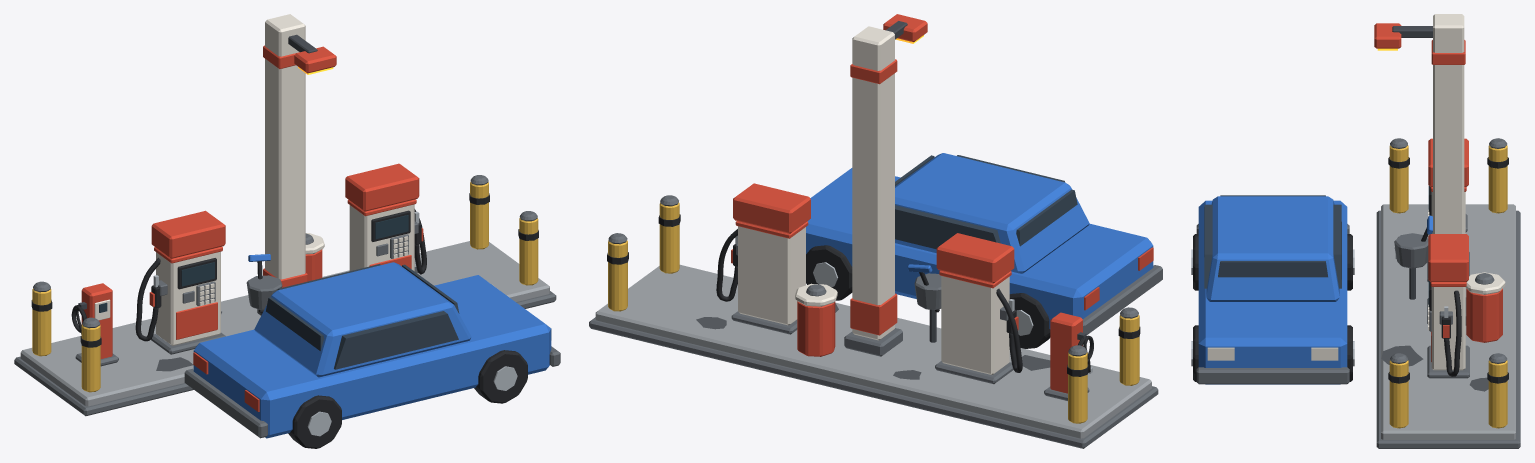
File: gas-station-pump-island.glb
3 views of the same model, side by side, from view 1: azimuth 30°, elevation 25°; view 2: azimuth 150°, elevation 25°; view 3: azimuth 270°, elevation 25° (orthographic). The views are drawn at different scales.
Visible parts, largest first — view 1: Car_Body, Island_Top, Car_Cabin, Pillar, Car_SideWindow_L, PumpA_Body, PumpA_Head, PumpB_Head, PumpB_Body, Island_Curb, Car_Wheel_3, Car_Wheel_1 (+14 smaller); view 2: Island_Top, Car_Body, Pillar, Car_Cabin, Island_Curb, PumpA_Body, PumpB_Body, PumpA_Head, PumpB_Head, Car_SideWindow_R, TrashBin, AirPump_Post (+18 smaller); view 3: Island_Top, Car_Cabin, Car_Body, Pillar, Island_Curb, Car_Bumper_2, PumpB_Body, PumpB_Head, Car_Windshield, TrashBin, Bollard_1, Bollard_2 (+17 smaller).
Boxes of the visible parts, box(x1,y1,x2,y2) form: Car_Body: box(193, 275, 551, 438); Island_Top: box(20, 241, 549, 406); Car_Cabin: box(254, 262, 471, 377); Pillar: box(265, 14, 305, 279); Car_SideWindow_L: box(334, 311, 458, 369); PumpA_Body: box(156, 251, 220, 345); PumpA_Head: box(151, 210, 225, 258); PumpB_Head: box(345, 163, 419, 211); PumpB_Body: box(349, 204, 414, 271); Island_Curb: box(14, 291, 556, 416); Car_Wheel_3: box(474, 350, 527, 403); Car_Wheel_1: box(288, 395, 341, 448); Island_Top: box(595, 264, 1151, 438); Car_Body: box(806, 168, 1153, 328); Pillar: box(852, 26, 894, 340); Car_Cabin: box(895, 153, 1089, 273); Island_Curb: box(589, 317, 1158, 448); PumpA_Body: box(941, 276, 1009, 374); PumpB_Body: box(738, 226, 805, 325); PumpA_Head: box(936, 233, 1014, 283); PumpB_Head: box(733, 183, 810, 233); Car_SideWindow_R: box(895, 205, 1000, 249); TrashBin: box(797, 301, 835, 356); AirPump_Post: box(1050, 312, 1082, 393); Island_Top: box(1381, 204, 1515, 439); Car_Cabin: box(1206, 196, 1339, 301); Car_Body: box(1198, 200, 1347, 384); Pillar: box(1433, 14, 1464, 233); Island_Curb: box(1376, 210, 1520, 448); Car_Bumper_2: box(1196, 367, 1349, 384); PumpB_Body: box(1431, 287, 1465, 370); PumpB_Head: box(1428, 234, 1468, 281); Car_Windshield: box(1218, 261, 1327, 277); TrashBin: box(1466, 288, 1502, 342); Bollard_1: box(1389, 145, 1408, 213); Bollard_2: box(1488, 145, 1507, 213).
Size of the model in its own units: 24.4 by 15.4 by 14.63.
